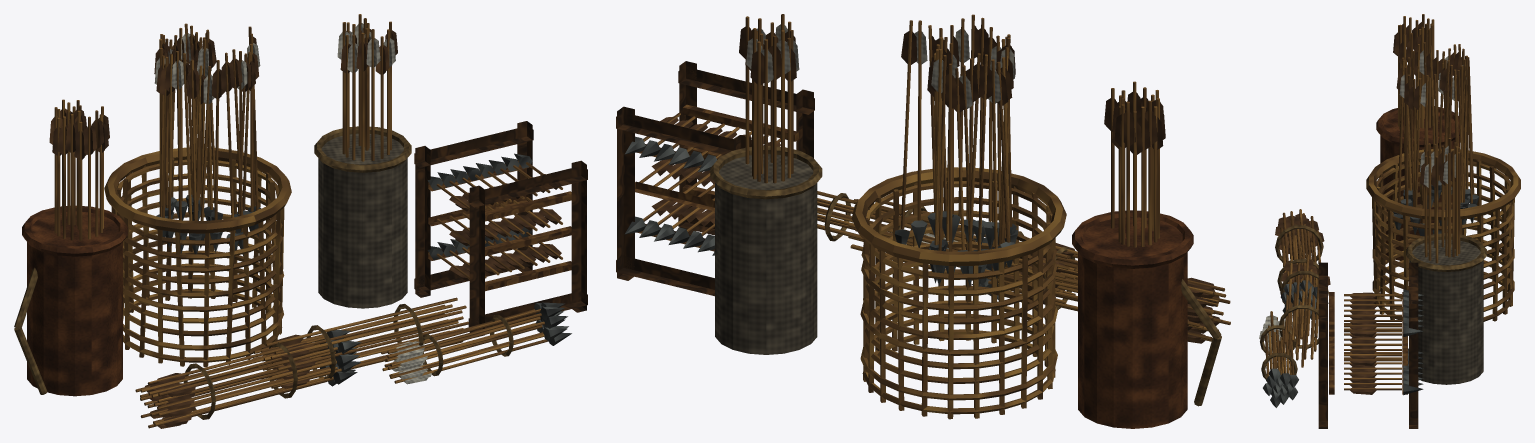
The model's file is medieval_fletcher_station_3d_runtime.glb.
3 views of the same model, side by side, from view 1: azimuth 30°, elevation 25°; view 2: azimuth 150°, elevation 25°; view 3: azimuth 270°, elevation 25° (orthographic). The views are drawn at different scales.
Visible parts, largest first — view 1: FLETCHER_SHAFT_BATCH, FLETCHER_WICKER_BATCH, FLETCHER_LEATHER_BATCH, FLETCHER_CANVAS_DARK_BATCH, FLETCHER_WOOD_DARK_BATCH, FLETCHER_FEATHER_BROWN_BATCH, FLETCHER_STEEL_BATCH, FLETCHER_ROPE_BATCH, FLETCHER_WOOD_MID_BATCH, FLETCHER_FEATHER_WHITE_BATCH; view 2: FLETCHER_WICKER_BATCH, FLETCHER_SHAFT_BATCH, FLETCHER_LEATHER_BATCH, FLETCHER_CANVAS_DARK_BATCH, FLETCHER_WOOD_DARK_BATCH, FLETCHER_FEATHER_BROWN_BATCH, FLETCHER_STEEL_BATCH, FLETCHER_ROPE_BATCH, FLETCHER_FEATHER_WHITE_BATCH, FLETCHER_WOOD_MID_BATCH; view 3: FLETCHER_SHAFT_BATCH, FLETCHER_WICKER_BATCH, FLETCHER_CANVAS_DARK_BATCH, FLETCHER_FEATHER_BROWN_BATCH, FLETCHER_WOOD_DARK_BATCH, FLETCHER_STEEL_BATCH, FLETCHER_ROPE_BATCH, FLETCHER_LEATHER_BATCH, FLETCHER_FEATHER_WHITE_BATCH, FLETCHER_WOOD_MID_BATCH.
Part boxes in pixels (x1,y1,x2,y2): FLETCHER_SHAFT_BATCH: [54, 14, 562, 428]; FLETCHER_WICKER_BATCH: [104, 147, 291, 366]; FLETCHER_LEATHER_BATCH: [22, 205, 127, 396]; FLETCHER_CANVAS_DARK_BATCH: [318, 133, 407, 308]; FLETCHER_WOOD_DARK_BATCH: [414, 121, 587, 337]; FLETCHER_FEATHER_BROWN_BATCH: [49, 28, 561, 428]; FLETCHER_STEEL_BATCH: [156, 153, 571, 386]; FLETCHER_ROPE_BATCH: [14, 126, 513, 419]; FLETCHER_WOOD_MID_BATCH: [428, 160, 571, 291]; FLETCHER_FEATHER_WHITE_BATCH: [154, 23, 431, 384]; FLETCHER_WICKER_BATCH: [851, 167, 1066, 419]; FLETCHER_SHAFT_BATCH: [639, 14, 1230, 341]; FLETCHER_LEATHER_BATCH: [1072, 210, 1193, 428]; FLETCHER_CANVAS_DARK_BATCH: [715, 154, 817, 354]; FLETCHER_WOOD_DARK_BATCH: [616, 61, 814, 296]; FLETCHER_FEATHER_BROWN_BATCH: [651, 25, 1219, 343]; FLETCHER_STEEL_BATCH: [625, 136, 1017, 299]; FLETCHER_ROPE_BATCH: [710, 146, 1221, 406]; FLETCHER_FEATHER_WHITE_BATCH: [746, 24, 1014, 249]; FLETCHER_WOOD_MID_BATCH: [635, 104, 798, 251]; FLETCHER_SHAFT_BATCH: [1265, 14, 1474, 390]; FLETCHER_WICKER_BATCH: [1366, 148, 1520, 321]; FLETCHER_CANVAS_DARK_BATCH: [1409, 239, 1483, 384]; FLETCHER_FEATHER_BROWN_BATCH: [1275, 22, 1467, 394]; FLETCHER_WOOD_DARK_BATCH: [1318, 262, 1418, 428]; FLETCHER_STEEL_BATCH: [1263, 180, 1478, 407]; FLETCHER_ROPE_BATCH: [1260, 225, 1486, 379]; FLETCHER_LEATHER_BATCH: [1376, 106, 1459, 260]; FLETCHER_FEATHER_WHITE_BATCH: [1259, 50, 1466, 352]; FLETCHER_WOOD_MID_BATCH: [1329, 292, 1407, 394].
Size of the model in its own units: 5.31 by 2.94 by 2.79.
Materials: 10 (10 with a texture image).
